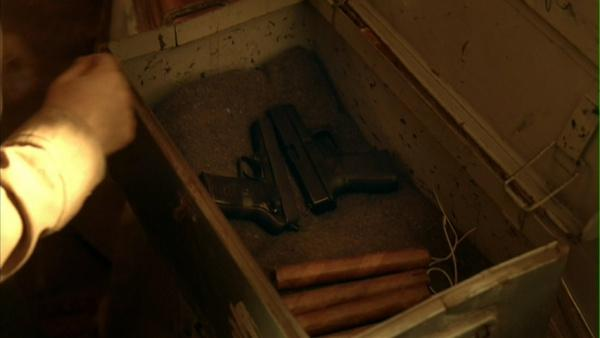Gun: (270, 103, 402, 212), (198, 113, 301, 236)
